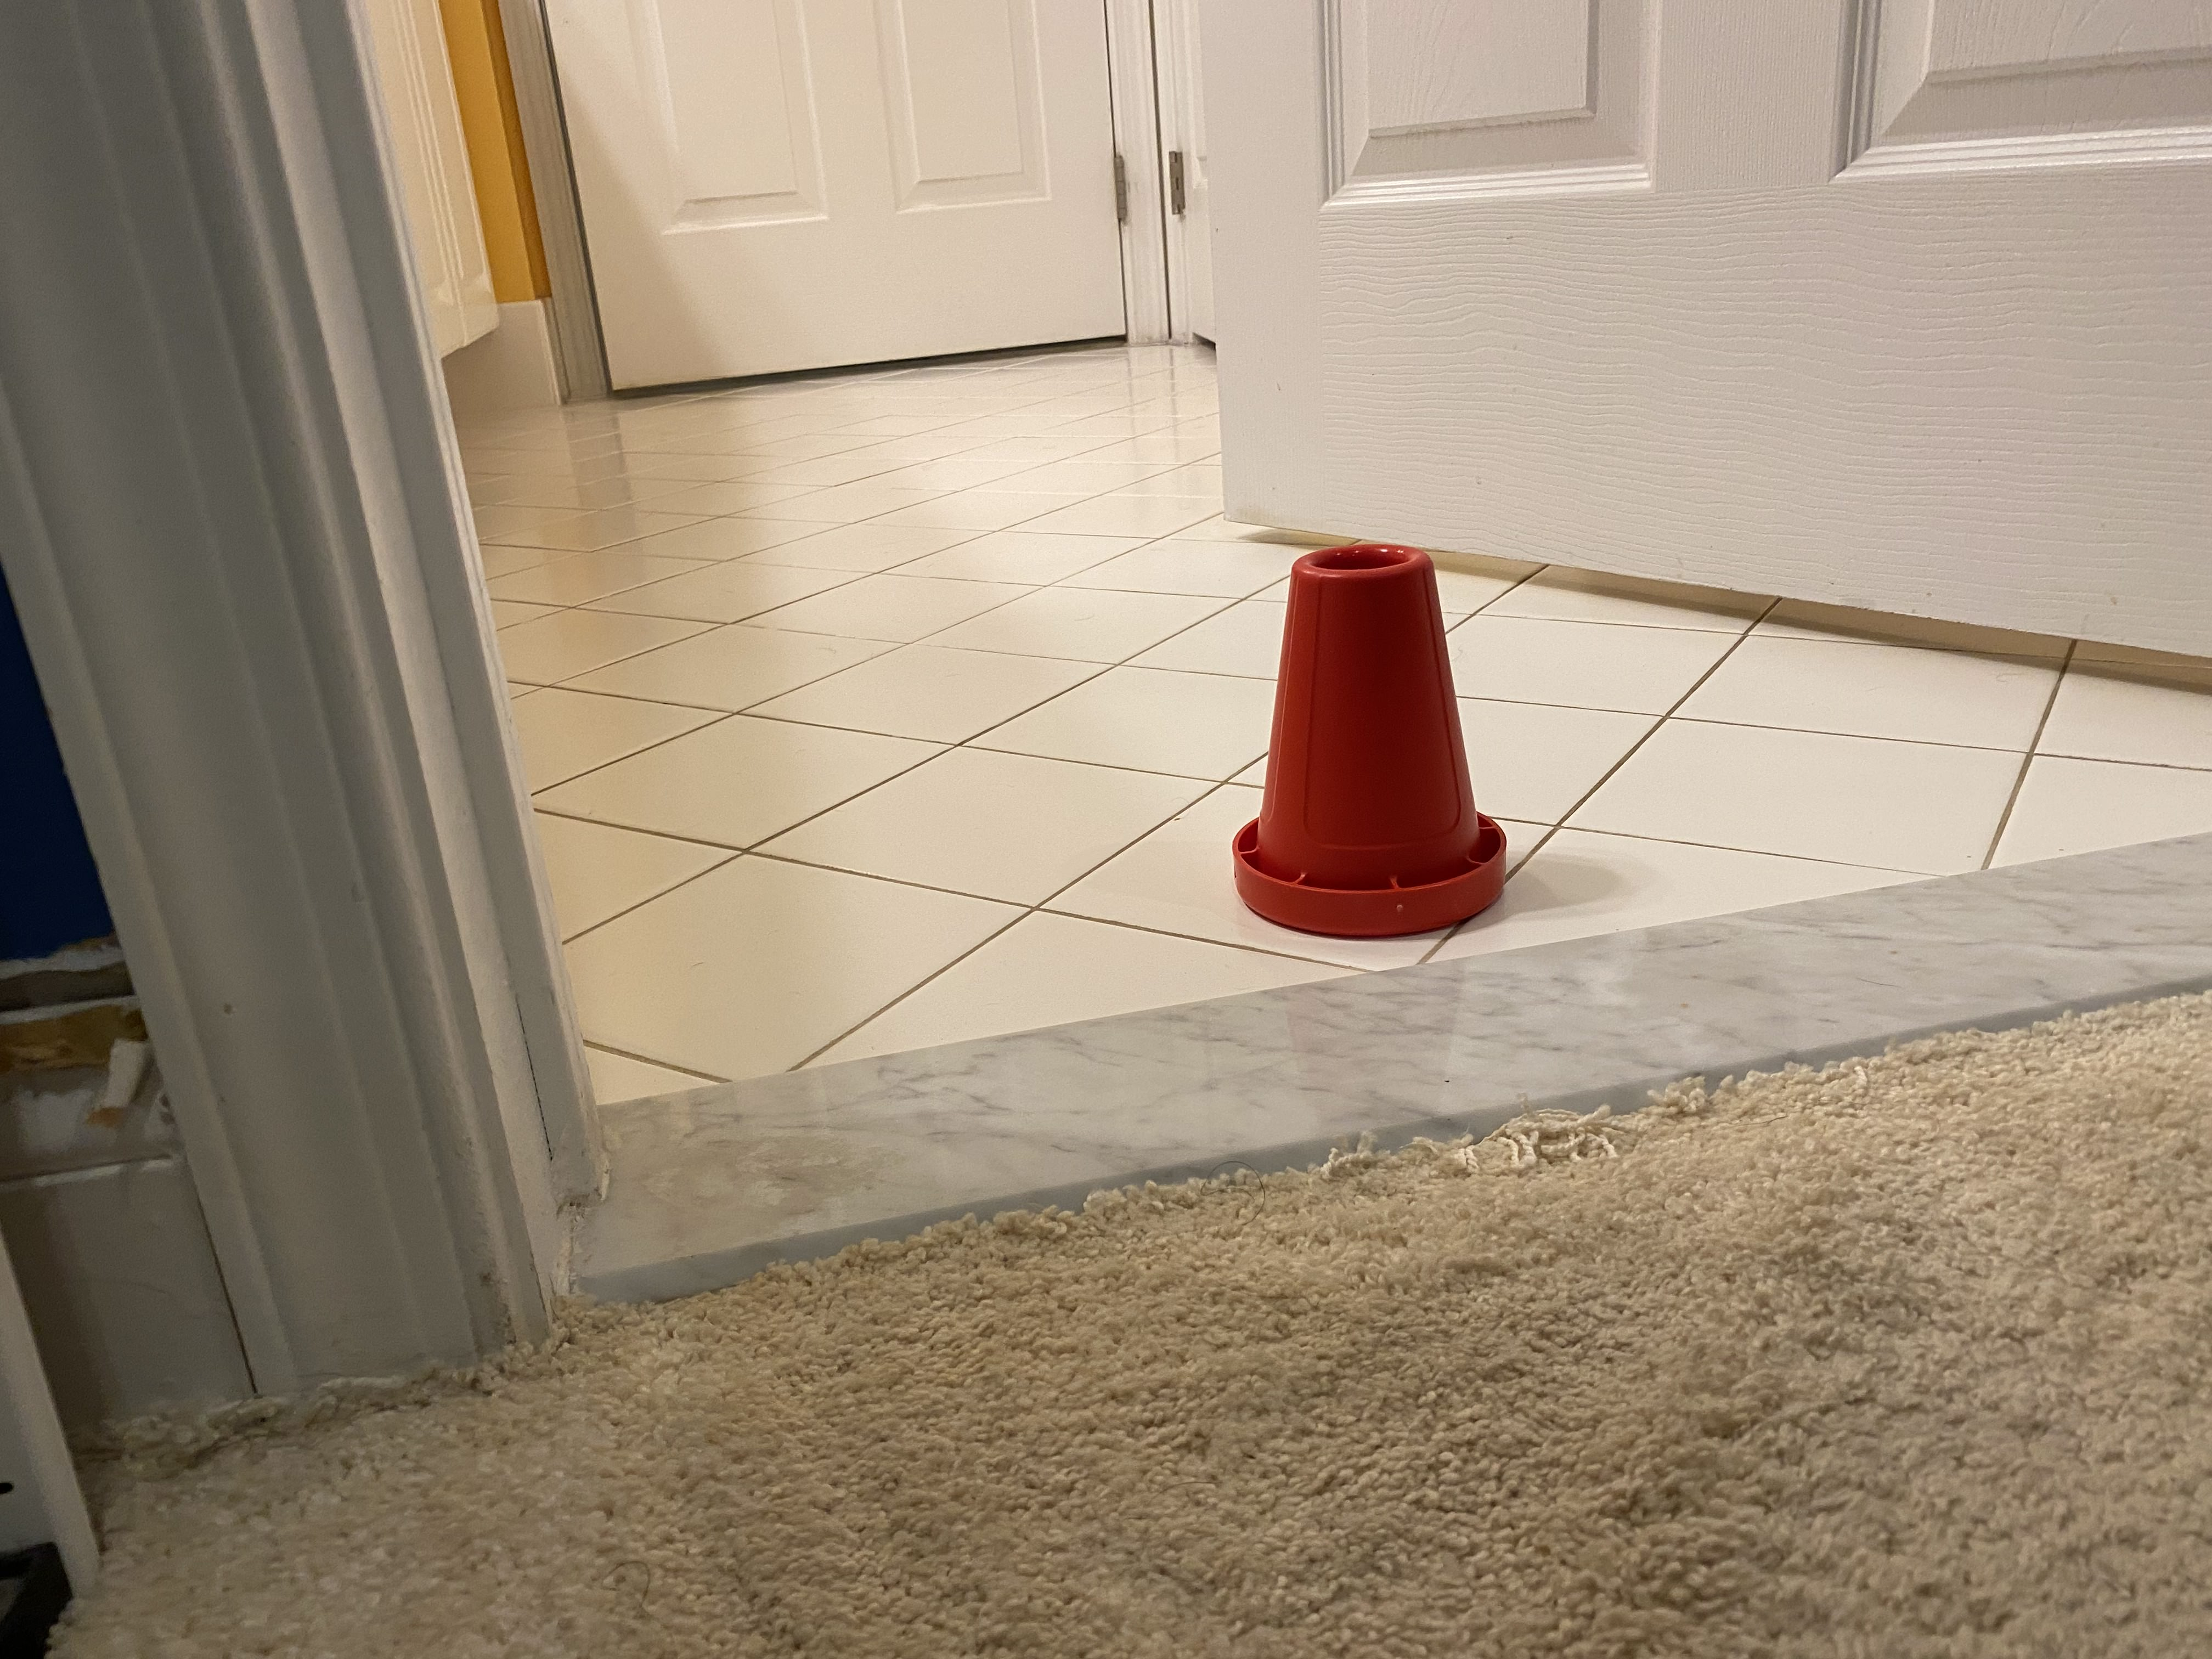redCone: (1230, 542, 1512, 945)
